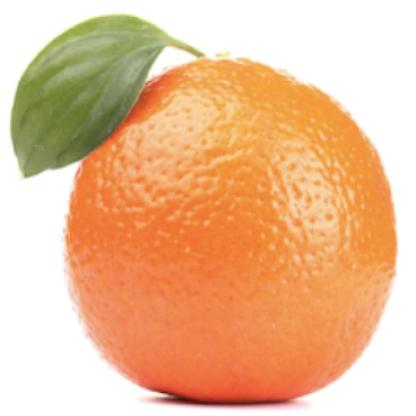fresh: (67, 58, 395, 406)
